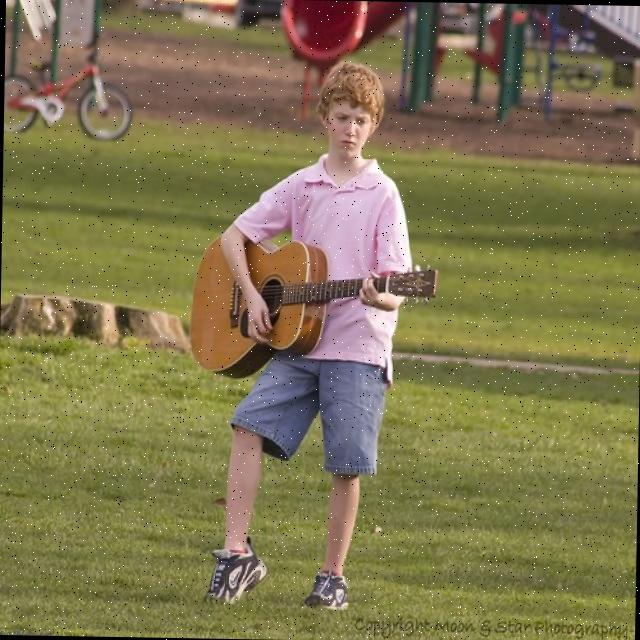guitar: (187, 226, 440, 385)
